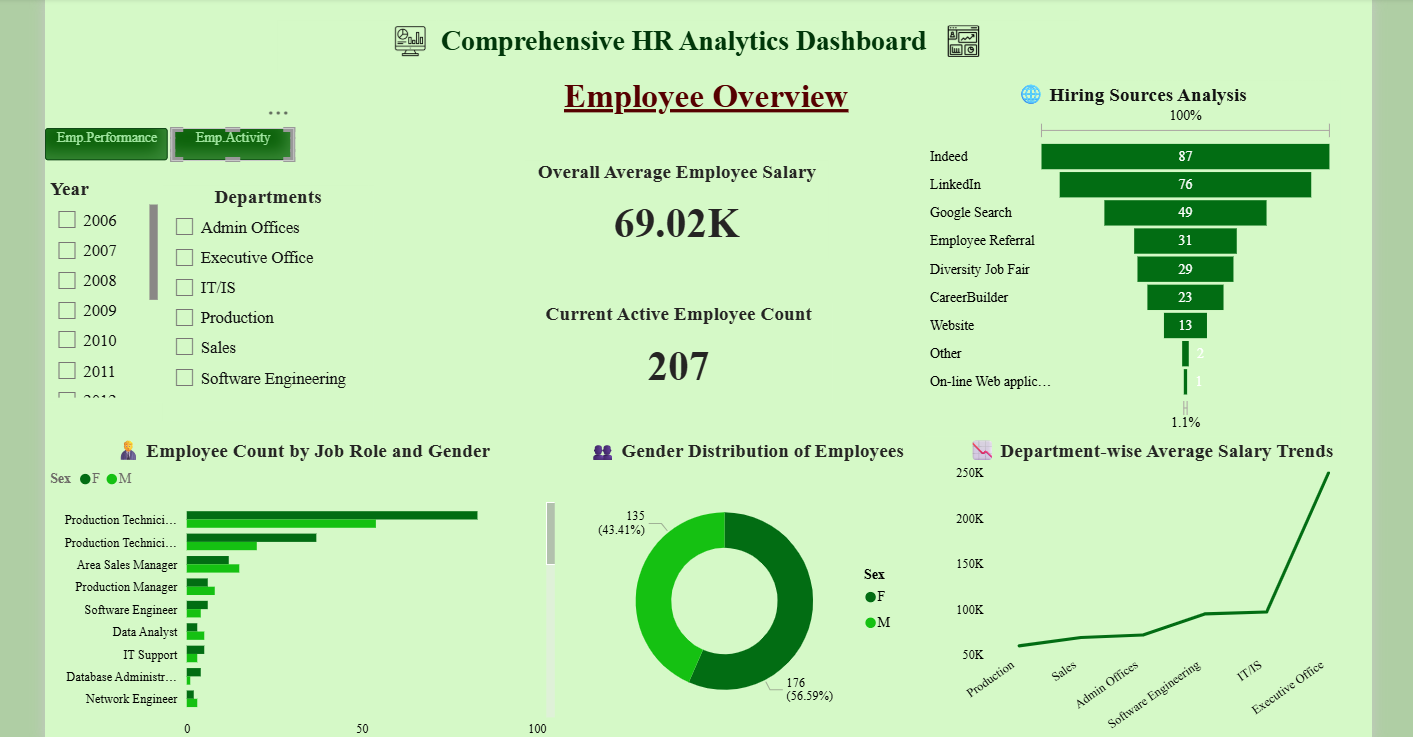

The dashboard page shown, as its layout file describes it:
{"tool":"powerbi","page":{"name":"Page 1","canvas":[1280,720],"ordinal":0},"visuals":[{"type":"card","title":"Overall Average Employee Salary","fields":{"Values":["HRDataset.Average Salary"]},"box":[463.3,156.8,293.2,95.3],"z":0},{"type":"donutChart","title":"👥 Gender Distribution of Employees","fields":{"Category":["HRDataset.Sex"],"Y":["HRDataset.Total Employees"]},"box":[516.4,423.5,322.1,296.8],"z":1000},{"type":"clusteredBarChart","title":"🧑💼 Employee Count by Job Role and Gender","fields":{"Y":["HRDataset.Total Employees"],"Category":["HRDataset.Position"],"Series":["HRDataset.Sex"]},"box":[0,423.5,497.1,296.8],"z":2000},{"type":"textbox","box":[224.4,21.7,773.3,49.5],"z":3000},{"type":"lineChart","title":"📉 Department-wise Average Salary Trends","fields":{"Y":["Avg(HRDataset.Salary)"],"Category":["HRDataset.Department"]},"box":[867.4,423.5,400.5,296.8],"z":4000},{"type":"card","title":"Current Active Employee Count","fields":{"Values":["HRDataset.Active Employees"]},"box":[463.3,294.4,296.8,96.5],"z":5000},{"type":"slicer","title":"Departments","fields":{"Values":["HRDataset.Department"]},"box":[113.4,181,203.9,226.8],"z":6000},{"type":"funnel","title":"🌐 Hiring Sources Analysis","fields":{"Category":["HRDataset.RecruitmentSource"],"Y":["HRDataset.Total Employees"]},"box":[849.3,79.6,400.5,343.8],"z":7000},{"type":"slicer","title":"Year","fields":{"Values":["HRDataset.Year"]},"box":[0,173.7,113.4,217.2],"z":8000},{"type":"textbox","box":[337.8,71.2,600.8,54.3],"z":9000},{"type":"image","box":[326.9,21.7,51.9,39.8],"z":10000},{"type":"image","box":[833.7,21.7,105,39.8],"z":11000},{"type":"actionButton","title":"Emp.Activity","box":[121.9,125.5,118.2,31.4],"z":13000},{"type":"actionButton","title":"Emp.Performance","box":[0,125.5,118.2,31.4],"z":13001}]}

Visuals, with their boxes on the page's 1280x720 design canvas (x1, y1, x2, y2). These are canvas units, not pixel positions in the 1413x737 screenshot, which may show the page scaled, cropped or inside an application window:
"Overall Average Employee Salary" card: box=[463, 157, 756, 252]
"👥 Gender Distribution of Employees" donutChart: box=[516, 424, 838, 720]
"🧑💼 Employee Count by Job Role and Gender" clusteredBarChart: box=[0, 424, 497, 720]
textbox: box=[224, 22, 998, 71]
"📉 Department-wise Average Salary Trends" lineChart: box=[867, 424, 1268, 720]
"Current Active Employee Count" card: box=[463, 294, 760, 391]
"Departments" slicer: box=[113, 181, 317, 408]
"🌐 Hiring Sources Analysis" funnel: box=[849, 80, 1250, 423]
"Year" slicer: box=[0, 174, 113, 391]
textbox: box=[338, 71, 939, 126]
image: box=[327, 22, 379, 62]
image: box=[834, 22, 939, 62]
"Emp.Activity" actionButton: box=[122, 126, 240, 157]
"Emp.Performance" actionButton: box=[0, 126, 118, 157]
